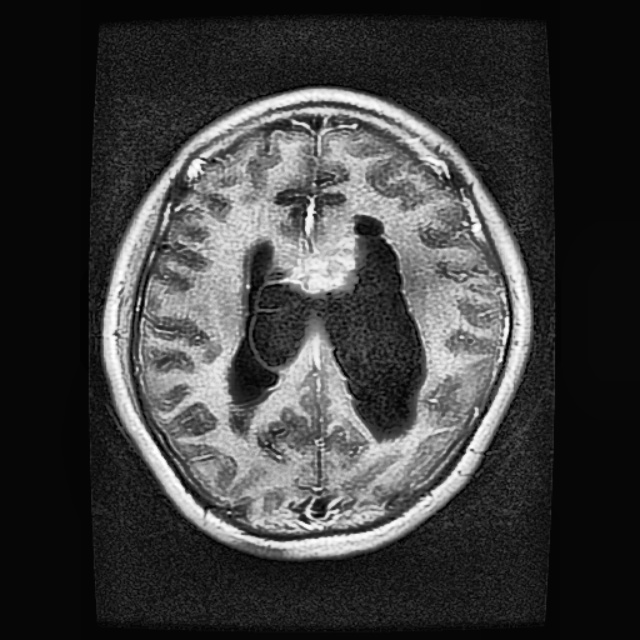Glioma: (269, 225, 363, 294)
